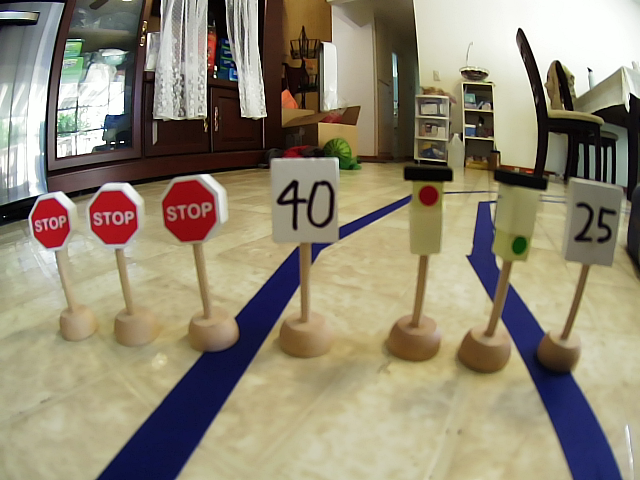25: (563, 177, 622, 269)
40: (270, 158, 339, 243)
green: (494, 171, 549, 266)
red: (406, 166, 451, 257)
stop: (164, 172, 230, 245), (86, 180, 149, 254), (24, 188, 79, 253)
